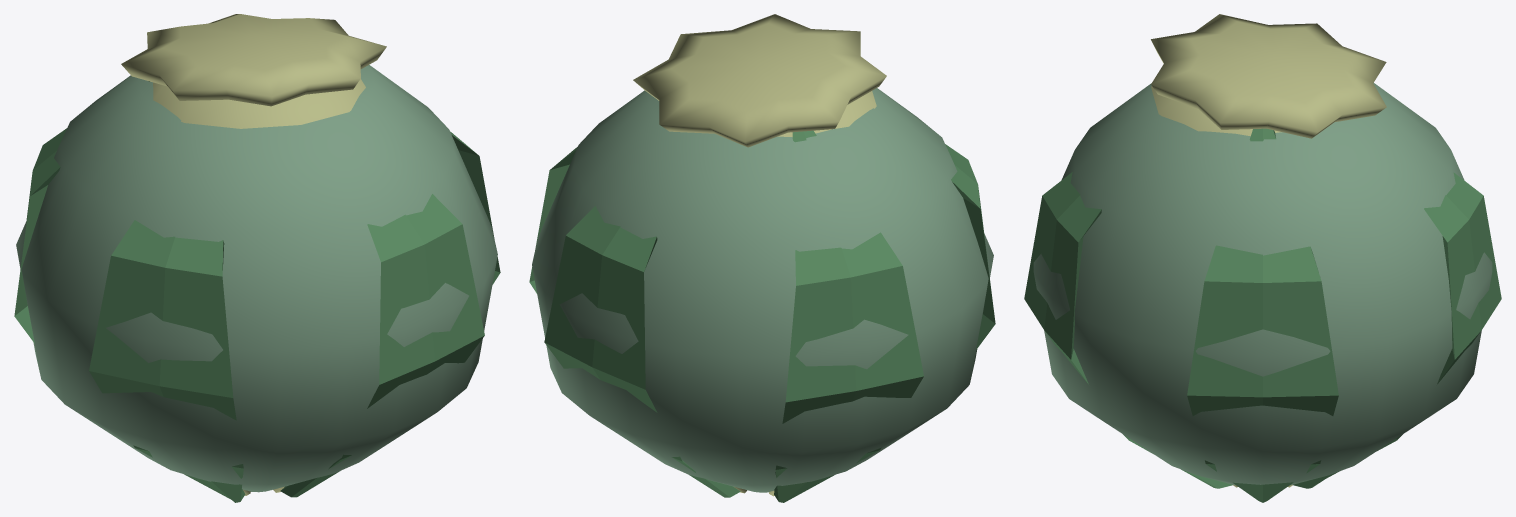
Rendered from seed_focus.glb.
3 views of the same model, side by side, from view 1: azimuth 30°, elevation 25°; view 2: azimuth 150°, elevation 25°; view 3: azimuth 270°, elevation 25° (orthographic). The views are drawn at different scales.
Visible parts, largest first — view 1: SeedFocus; view 2: SeedFocus; view 3: SeedFocus.
Boxes of the visible parts, <box> form: SeedFocus: <box>14,14,500,502</box>; SeedFocus: <box>529,14,995,502</box>; SeedFocus: <box>1024,14,1501,502</box>.
Size of the model in its own units: 0.348 by 0.3571 by 0.3586.
